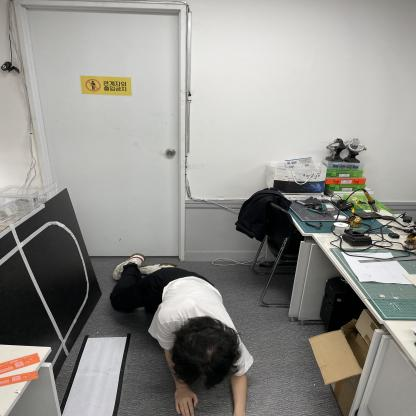fall: (107, 253, 269, 416)
